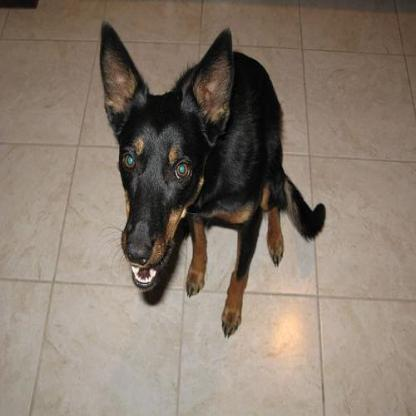kelpie: (98, 18, 326, 337)
